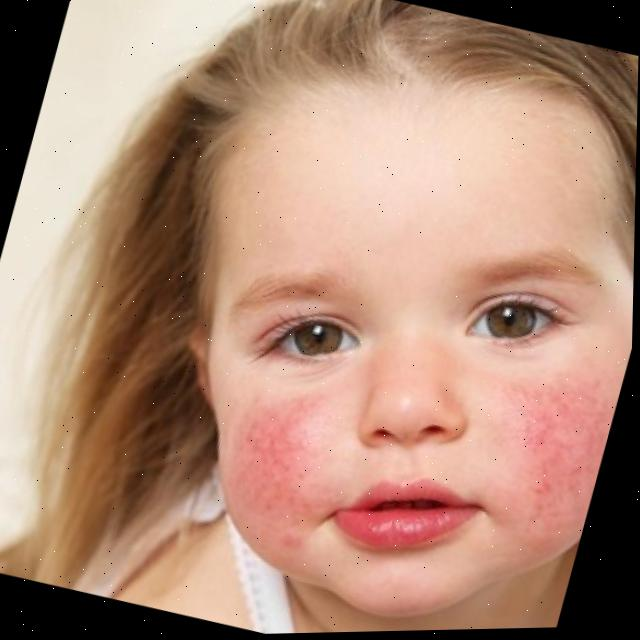Rosacea: (229, 387, 347, 531), (489, 377, 617, 493)
